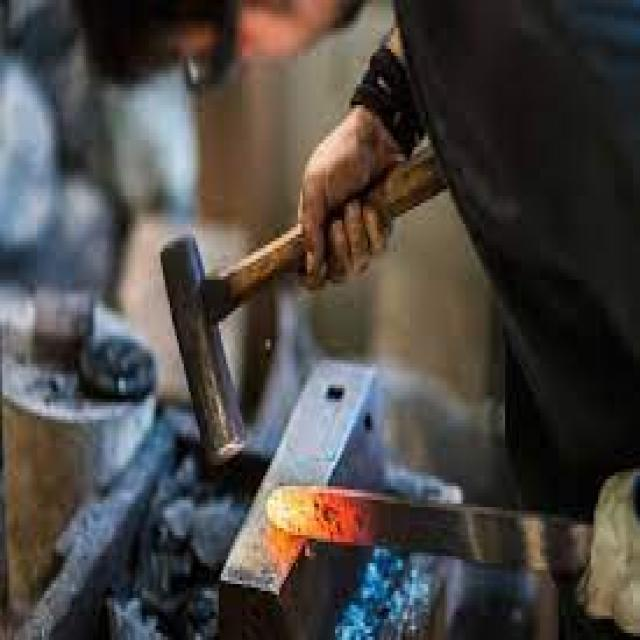hammer: (150, 135, 453, 474)
